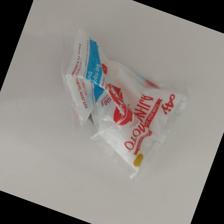Ajinomoto: (53, 25, 189, 187)
